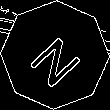N_NE: (23, 23, 87, 87)
